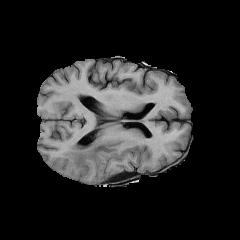glioma: (58, 138, 125, 169)
